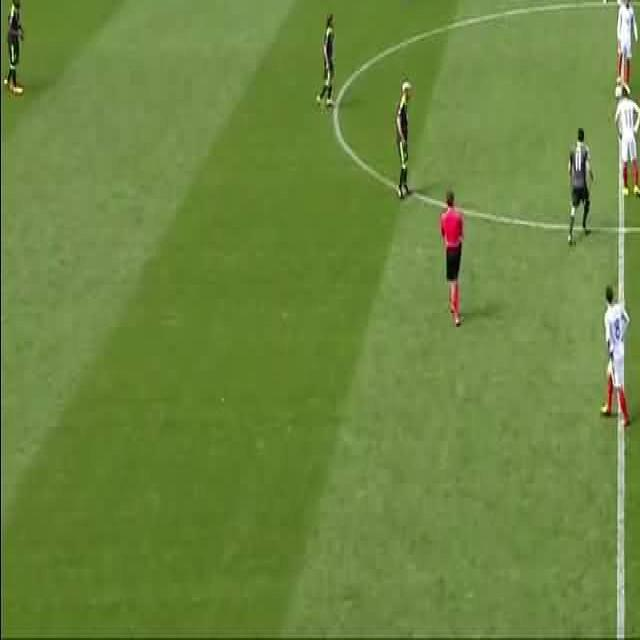ball: (615, 83, 623, 97)
player-white: (602, 286, 630, 428), (441, 191, 465, 326), (567, 128, 593, 245), (615, 87, 640, 195), (614, 0, 637, 96), (396, 80, 413, 198), (3, 0, 24, 94), (316, 14, 336, 106), (602, 0, 620, 6)
